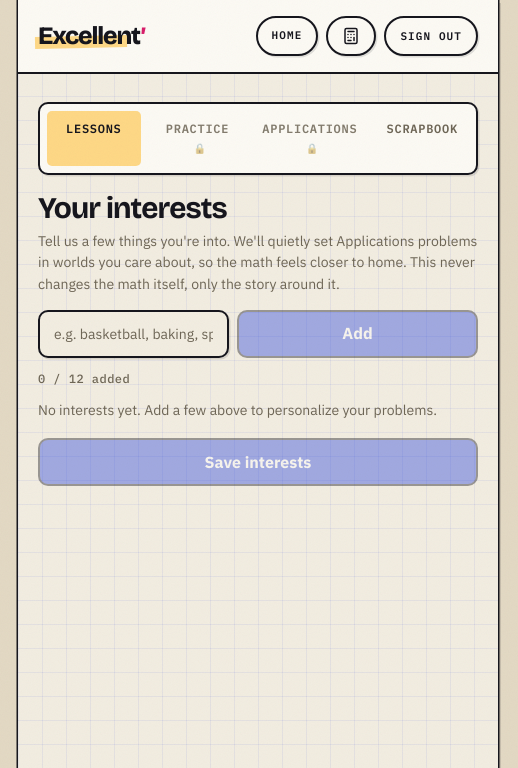
it: InterestsPage › clears the error message once the learner edits the entry
Type "cocaine" into the field named "add an interest" at (134,334), box [38,310,229,358]
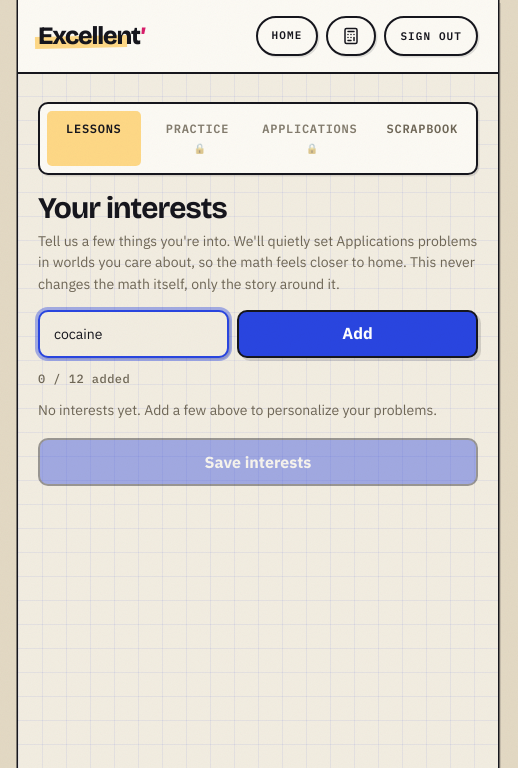
Click the button "Add" at (358,334), box [237,310,478,358]
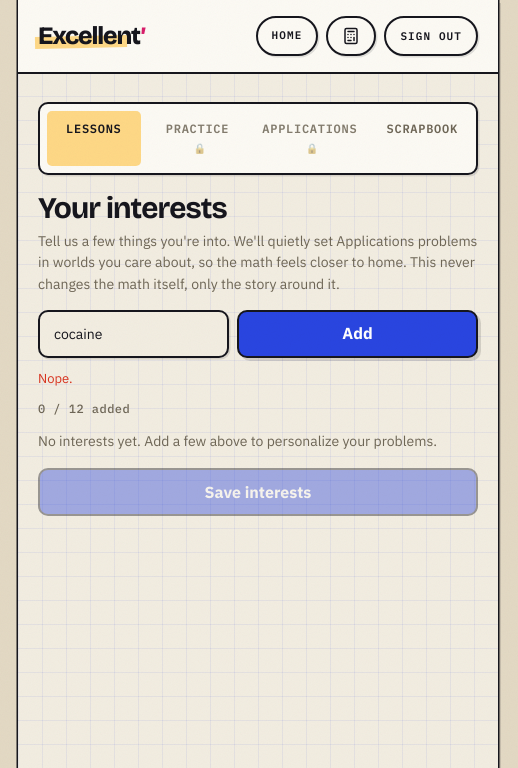
Check: the message "Nope." is shown, box [38,370,72,387]
Type " more" into the field named "add an interest" at (134,334), box [38,310,229,358]
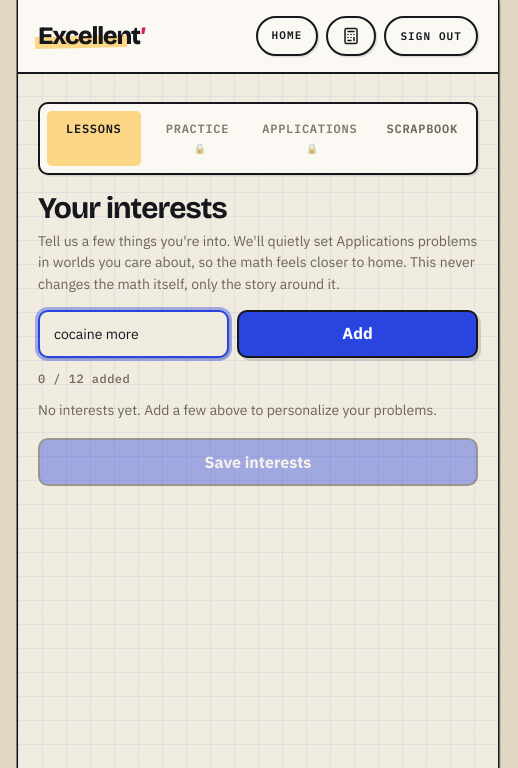
Check: the message "Nope." is gone
